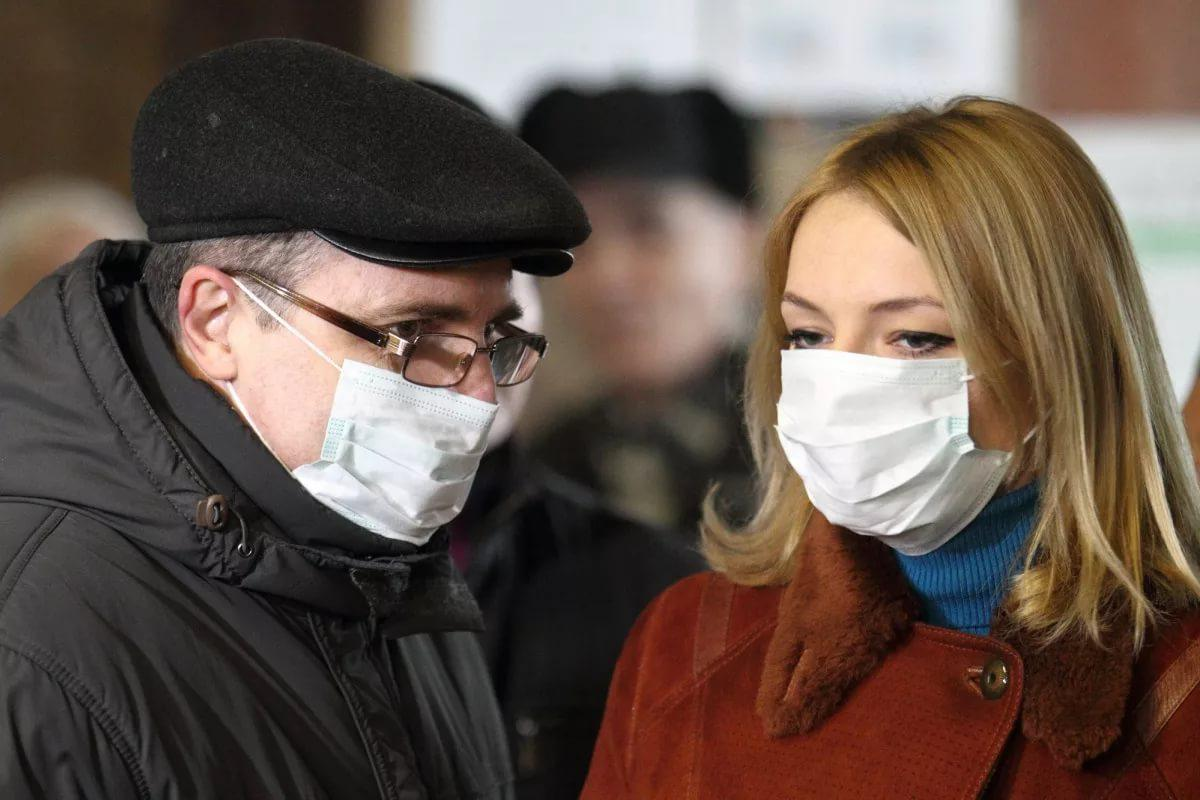mask: (765, 194, 1005, 549), (265, 245, 519, 542)
